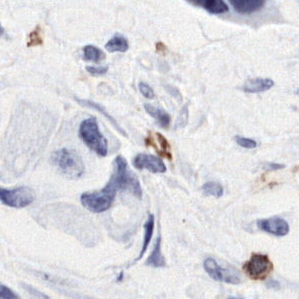Lymphocyte: (243, 252, 275, 281)
